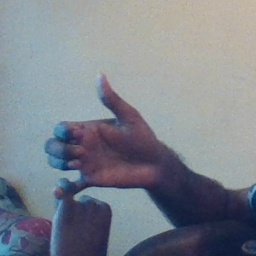S: (37, 70, 152, 240)
